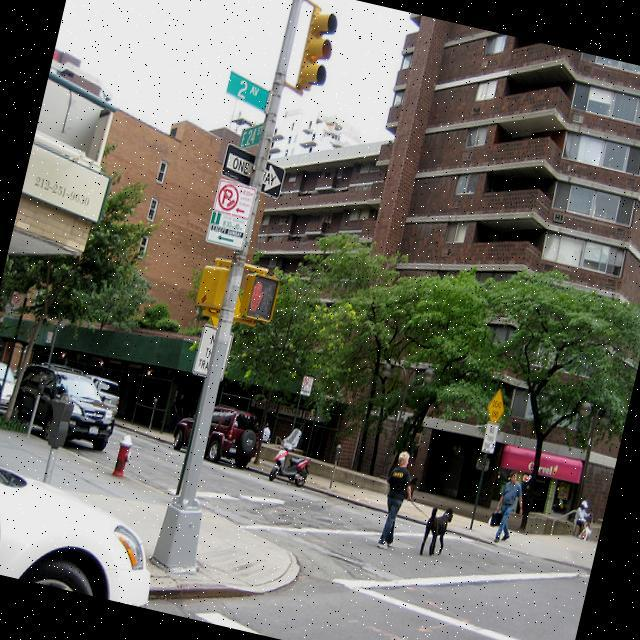fire_hydrant: (112, 432, 136, 476)
